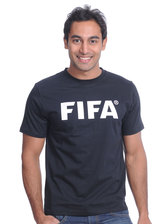clothoes: (19, 65, 148, 215)
